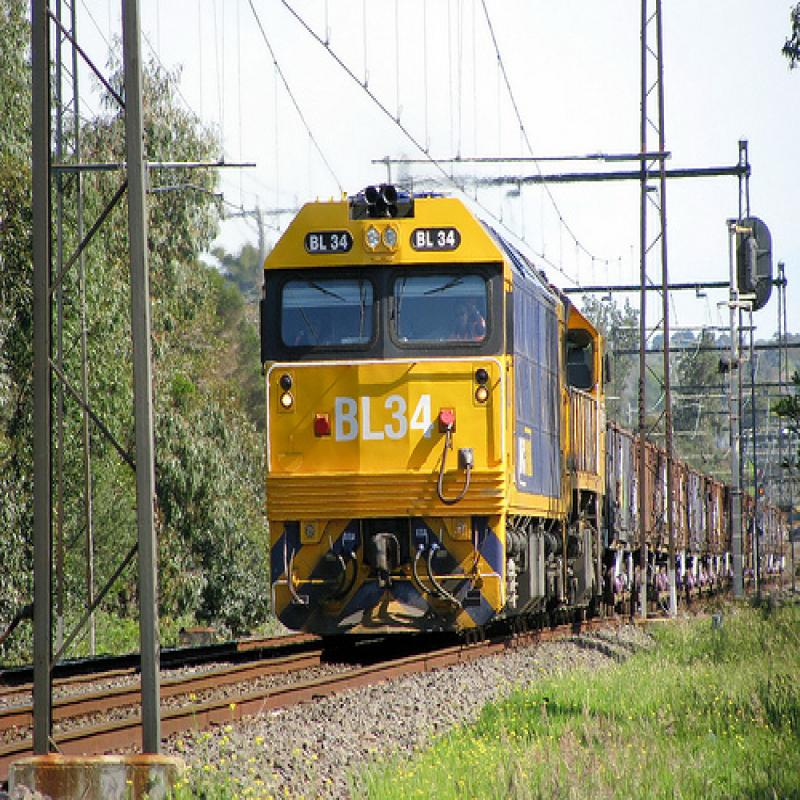train: (257, 189, 787, 669)
